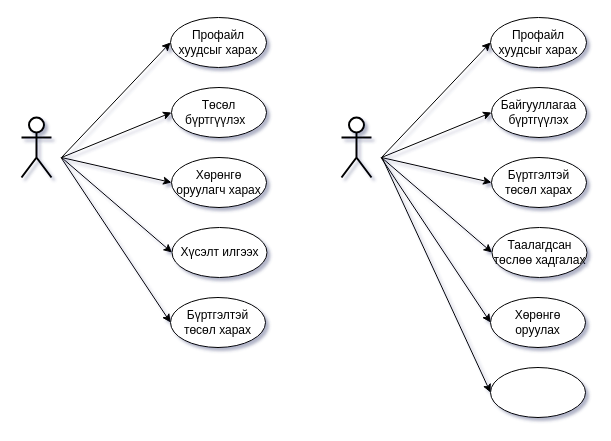
Image size: 611x441. Some labels were removed from this diagram. The shapes that lost their labels are listed below. From the top down, each one's centre as x and y in pixels, then its label:
[36,147]: Startup
[356,147]: Хөрөнгө оруулагч
[538,392]: Төсөл хайх
